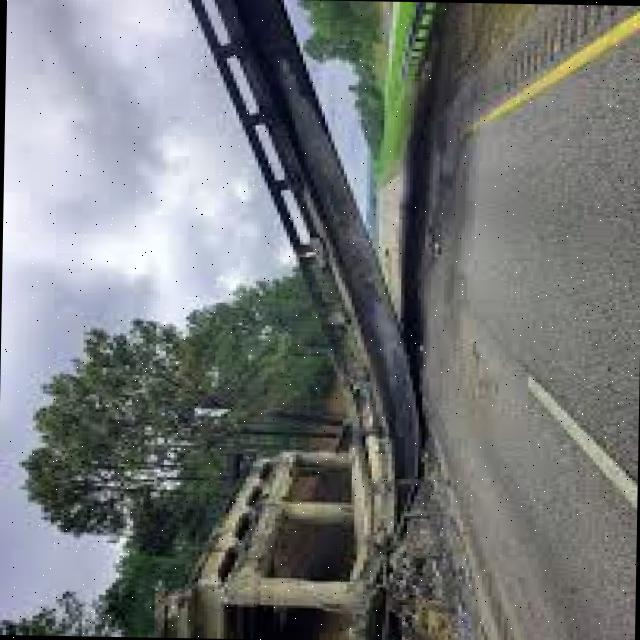bridge collapse: (81, 0, 496, 640)
